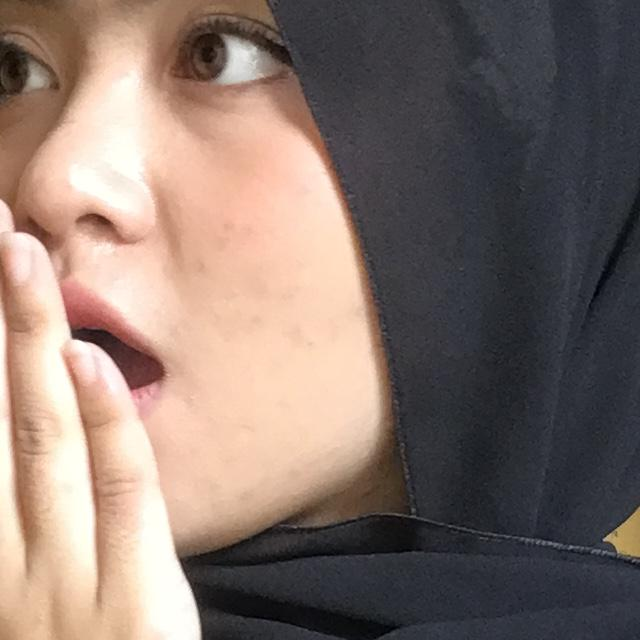ngantuk: (0, 136, 270, 640)
